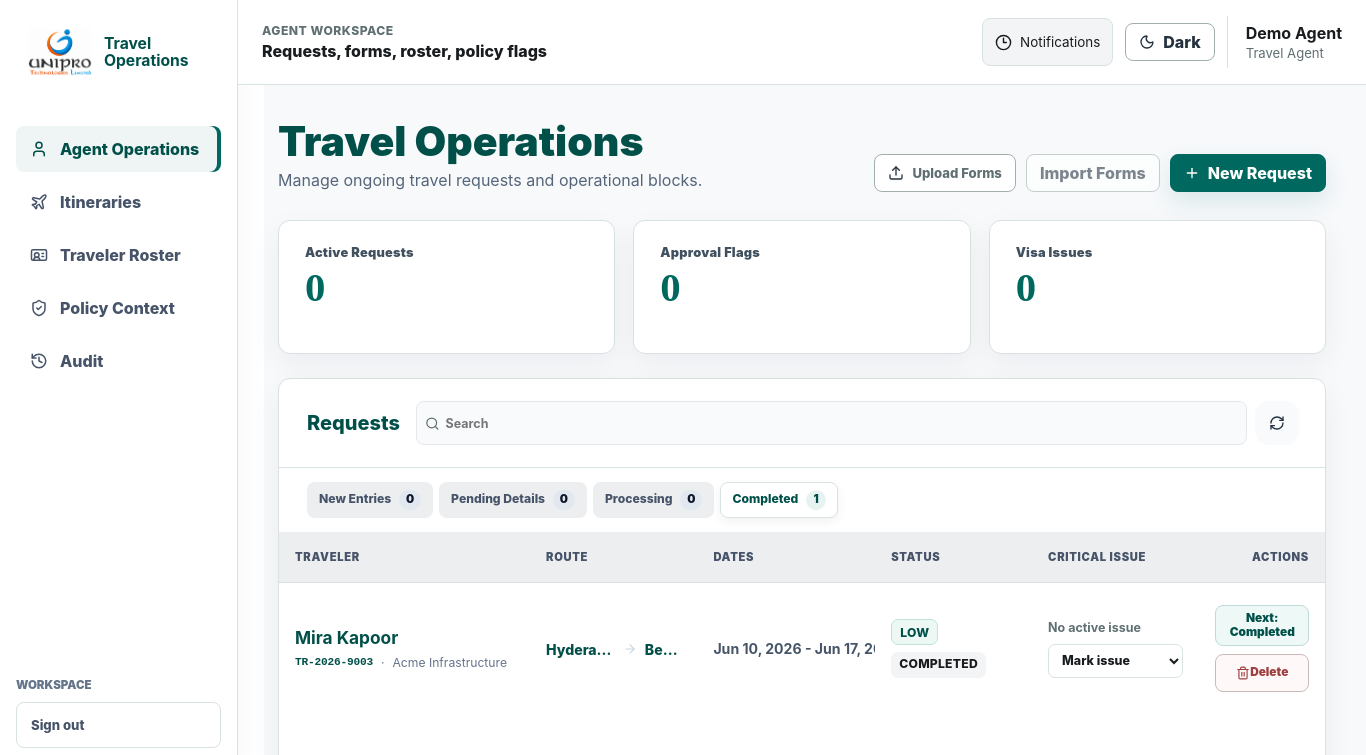
Test: AI Corporate Travel Planning Assistant MVP › shows a finalization gate message when export is blocked
The image size is (1366, 755).
Click the button with aria-label "TR-2026-9003".
click(1262, 626)  # box [1216,605,1309,646]
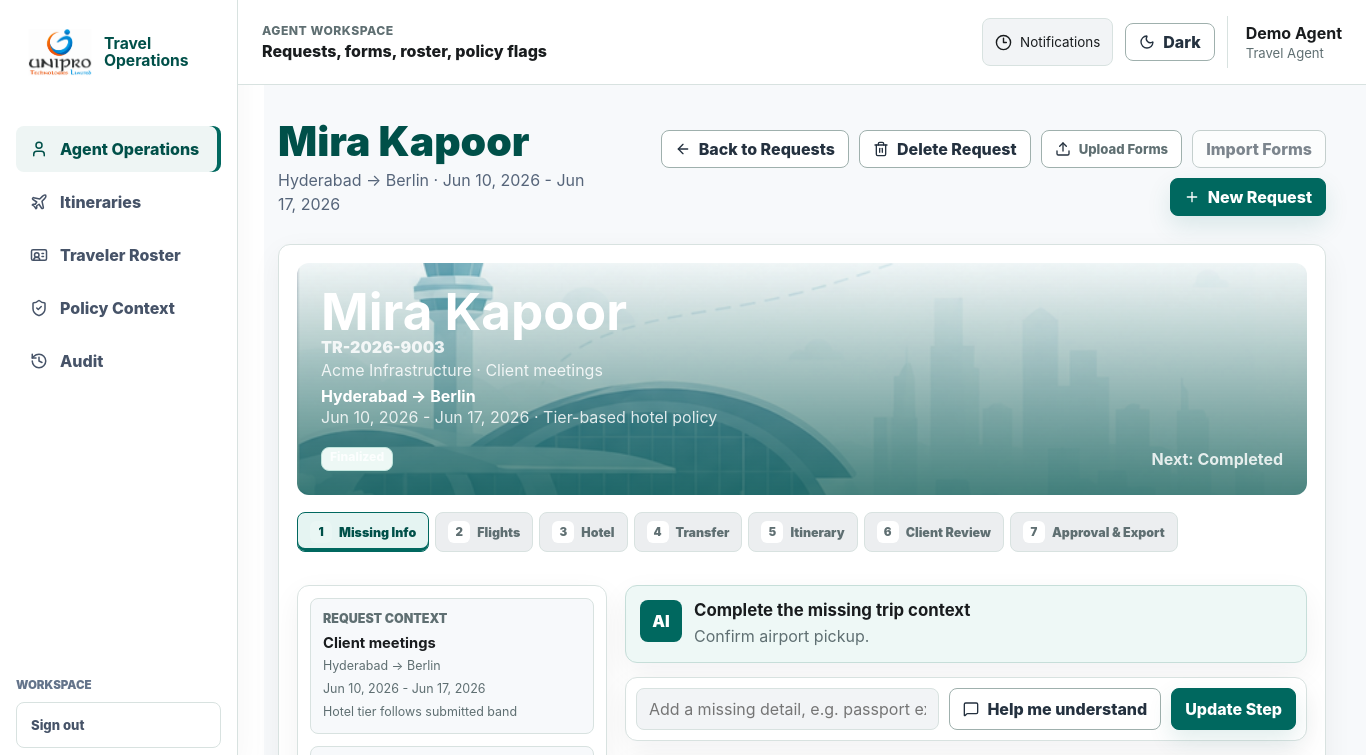
Click the button "7 Approval & Export".
click(1094, 532)  # box [1010,512,1178,552]
(page scrolled)
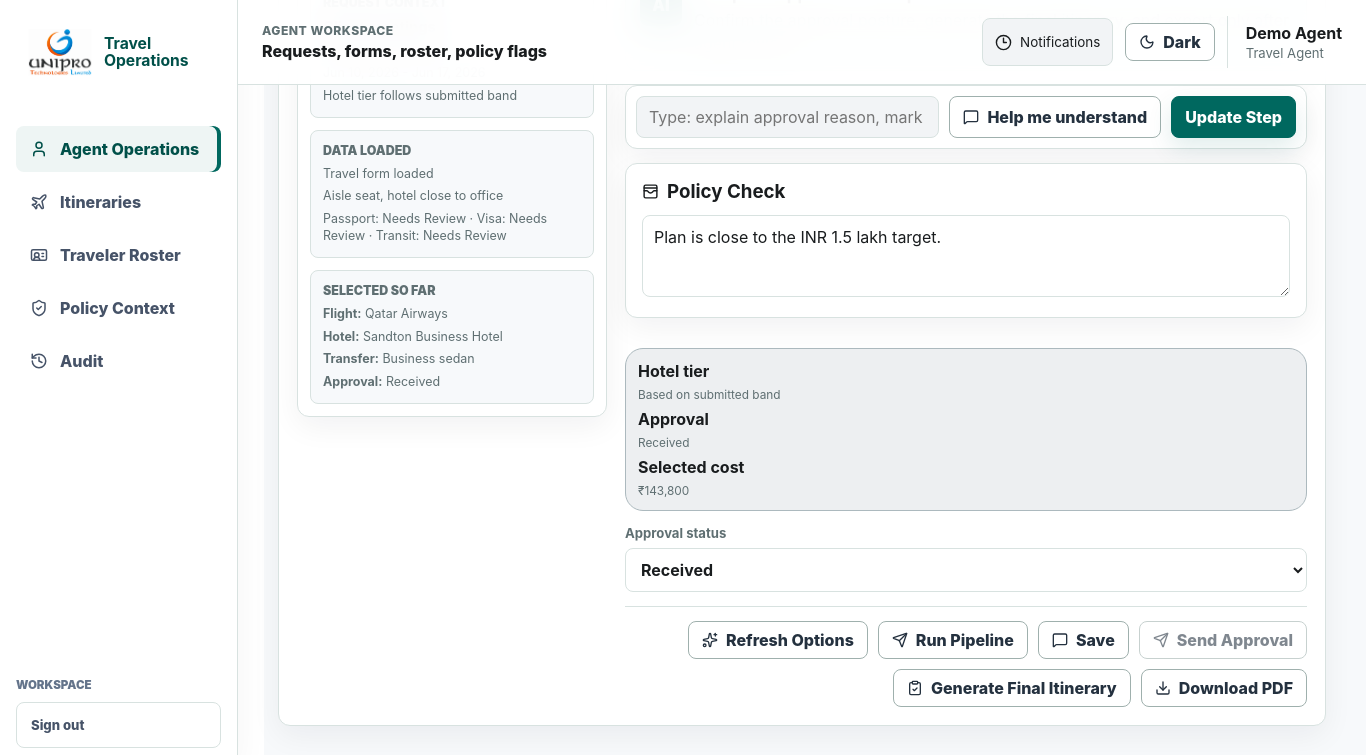
Click the button "Download PDF".
click(1224, 688)  # box [1141,669,1307,707]
(page scrolled)
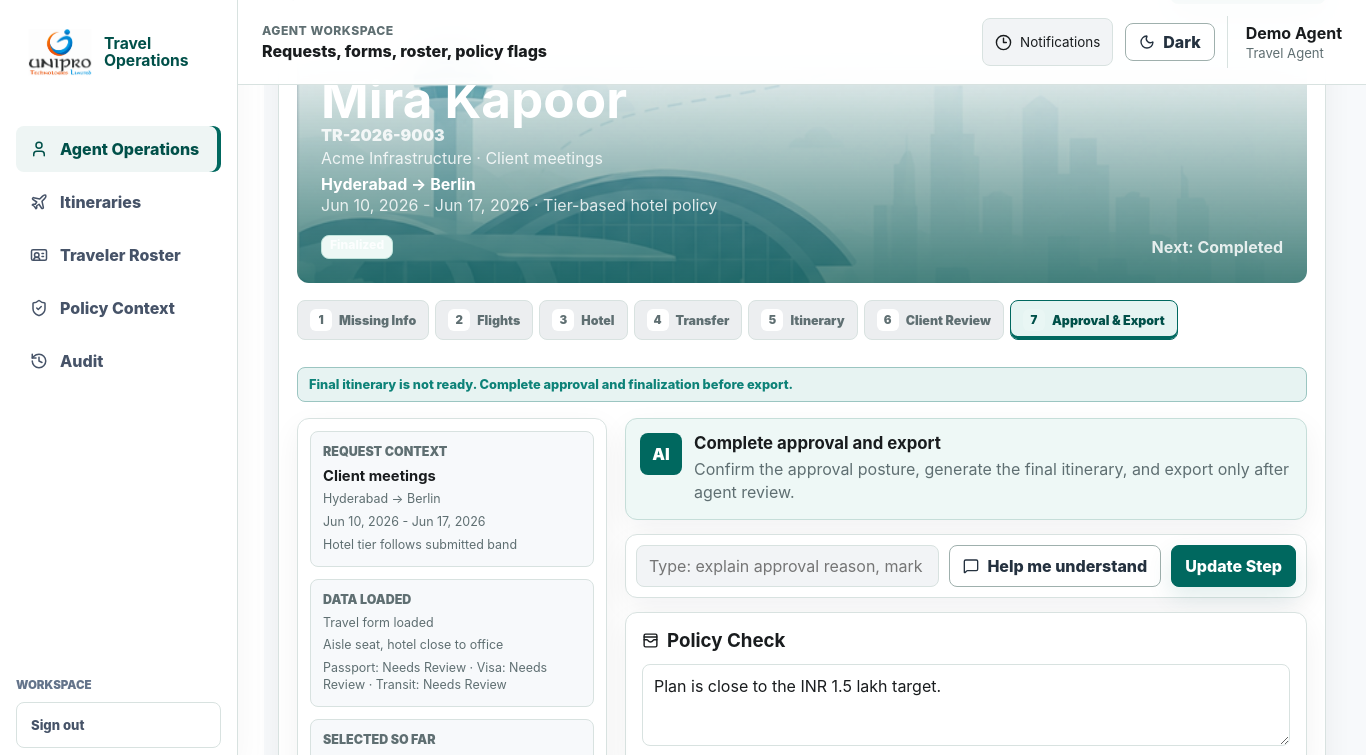
Now the text "Final itinerary is not ready. Complete approval and finalization before export." is shown, box [297,367,1307,402]
